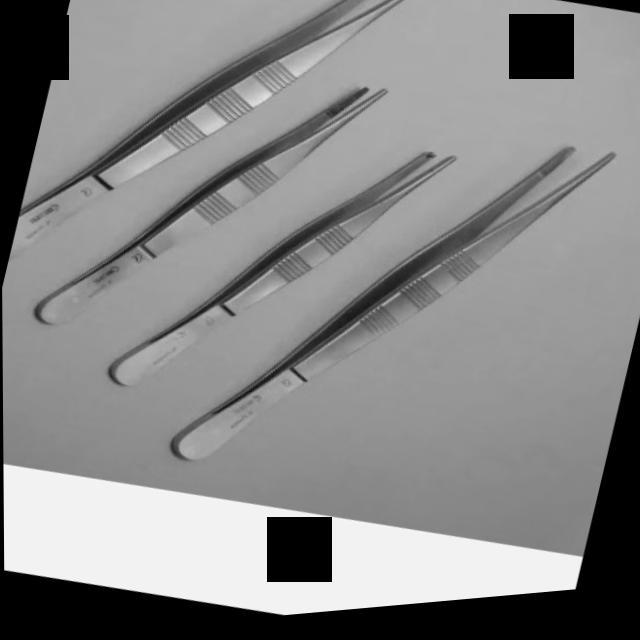Disscting Forceps -Plain-: (169, 74, 622, 552), (30, 14, 395, 397)
Disscting Forceps -tooth-: (1, 0, 452, 365), (100, 88, 460, 460)
